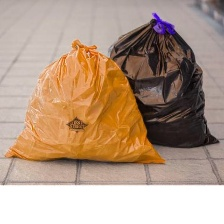plastic_bag: (0, 36, 172, 166), (105, 10, 222, 150)
